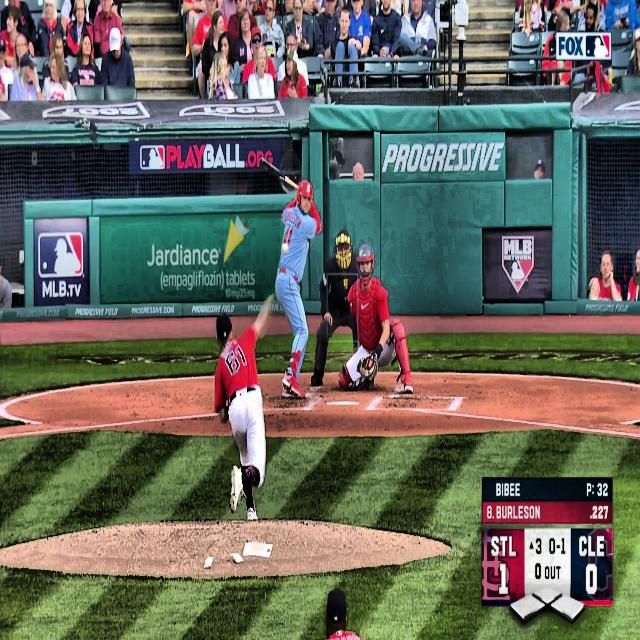baseball: (281, 242, 289, 254)
